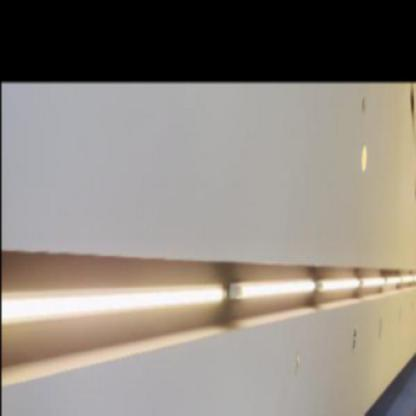light_on: (1, 265, 232, 356), (231, 258, 316, 318), (316, 270, 363, 304), (360, 272, 389, 300), (383, 270, 403, 301), (404, 272, 416, 292)
